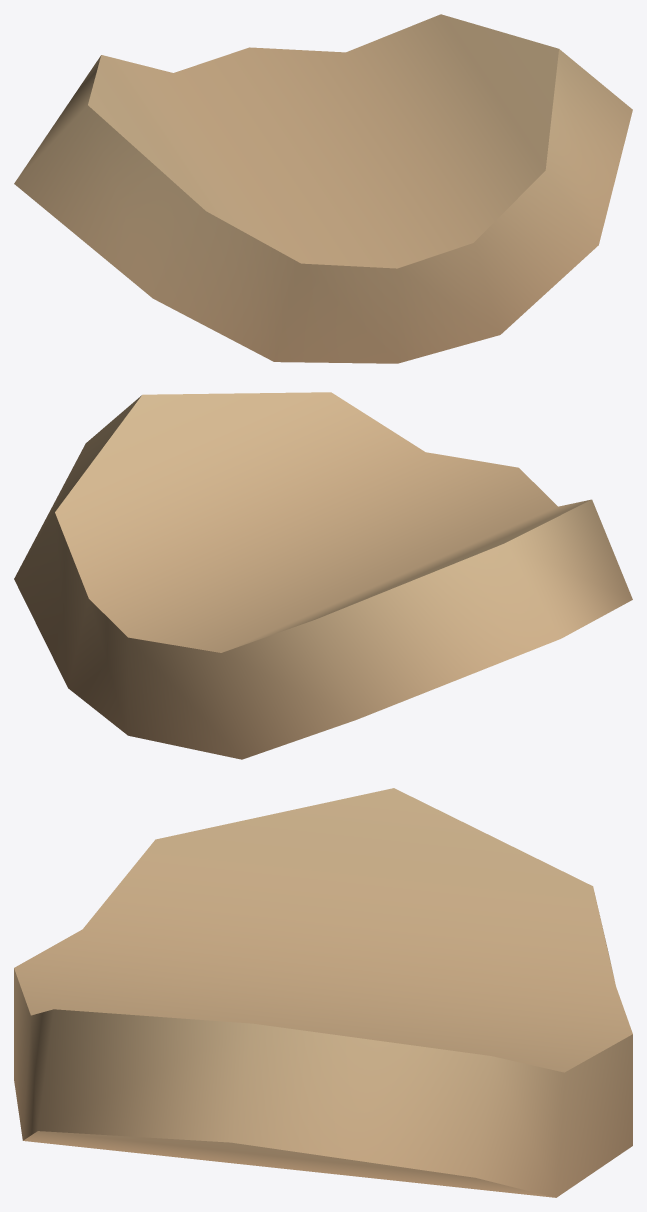
Rendered from (%no-merge) 2.glb.
3 views of the same model, one above another, from view 1: azimuth 30°, elevation 25°; view 2: azimuth 150°, elevation 25°; view 3: azimuth 270°, elevation 25° (orthographic). The views are drawn at different scales.
Visible parts, largest first — view 1: (%no-merge) 2; view 2: (%no-merge) 2; view 3: (%no-merge) 2.
Boxes of the visible parts, bbox=[...] form: (%no-merge) 2: bbox=[14, 14, 632, 363]; (%no-merge) 2: bbox=[14, 392, 632, 759]; (%no-merge) 2: bbox=[14, 788, 632, 1197].
Size of the model in its own units: 0.0849 by 0.0265 by 0.0717.
